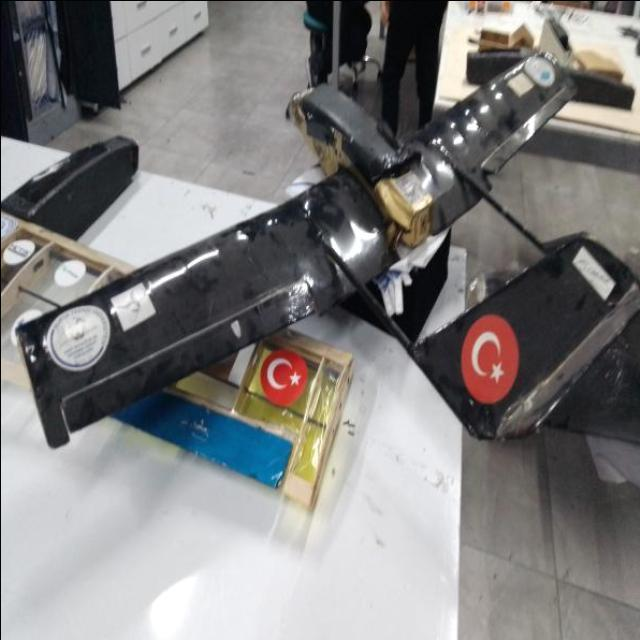plane: (12, 41, 640, 482)
